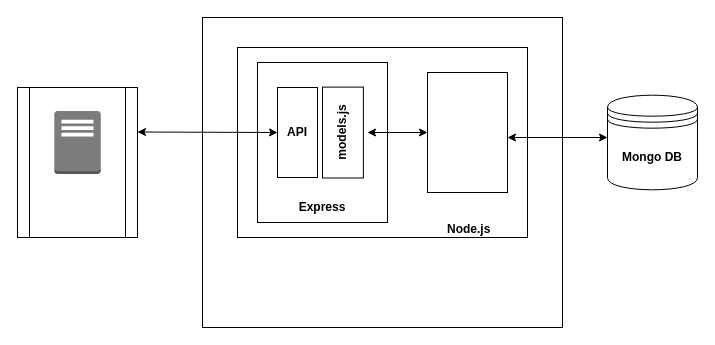
This 715x345 diagram has some shape labels left out. The shapes that lost their labels are listed below. From the top down, each one's box as (x1, y1, x2, y2) in pixels, then its label:
(426, 72, 508, 192): Mongo DB Driver
(16, 86, 138, 238): Heroku Application Server
(202, 16, 562, 328): Backend Server
